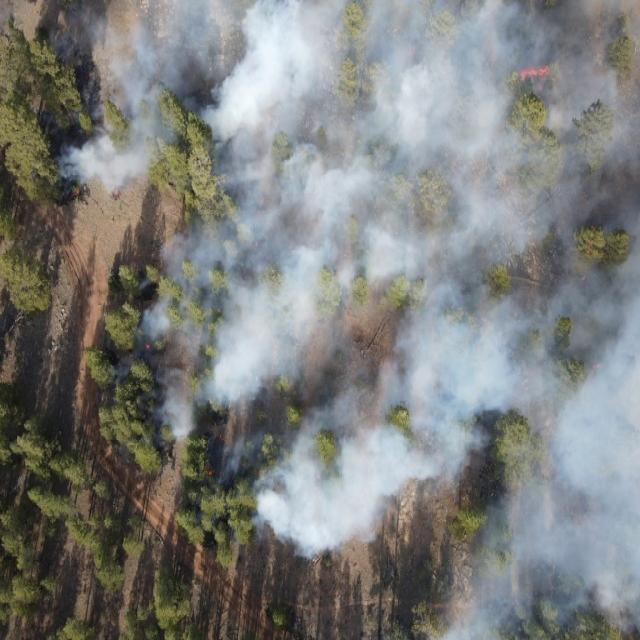fire: (518, 66, 550, 78), (589, 359, 607, 377), (111, 188, 122, 202), (586, 244, 596, 258), (536, 81, 547, 93), (203, 469, 216, 478), (578, 274, 589, 284), (254, 240, 262, 250), (144, 343, 152, 351)
smoke: (168, 192, 640, 466), (49, 0, 640, 192), (512, 464, 640, 632), (251, 468, 394, 558), (466, 495, 514, 640), (137, 275, 168, 451), (392, 466, 463, 499), (434, 609, 466, 640), (112, 358, 136, 390), (158, 240, 168, 274), (217, 469, 246, 480)
